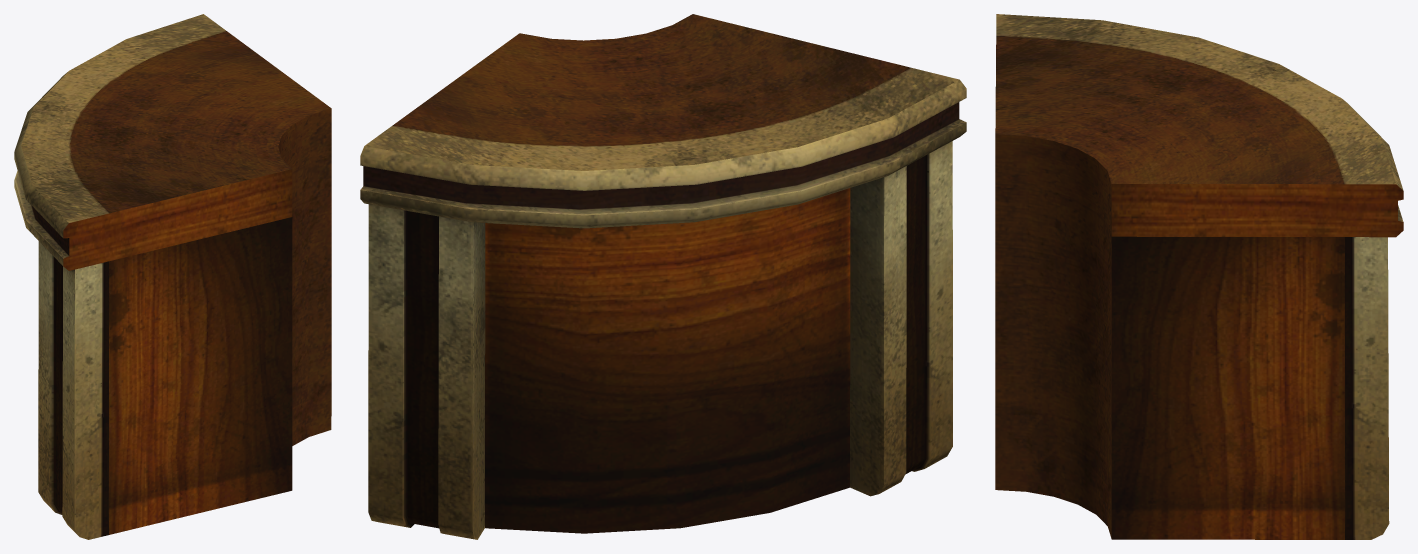
File: EDU_Restaurant_barcorner96.obj
3 views of the same model, side by side, from view 1: azimuth 30°, elevation 25°; view 2: azimuth 150°, elevation 25°; view 3: azimuth 270°, elevation 25° (orthographic). The views are drawn at different scales.
Visible parts, largest first — view 1: EDU_Restaurant_barcorner96; view 2: EDU_Restaurant_barcorner96; view 3: EDU_Restaurant_barcorner96.
Part boxes in pixels (left/top/right/bottom): EDU_Restaurant_barcorner96: left=14, top=14, right=331, bottom=539; EDU_Restaurant_barcorner96: left=360, top=14, right=966, bottom=539; EDU_Restaurant_barcorner96: left=995, top=14, right=1403, bottom=539.
Size of the model in its own units: 112 by 108 by 112.
1 material, 1 textured.
